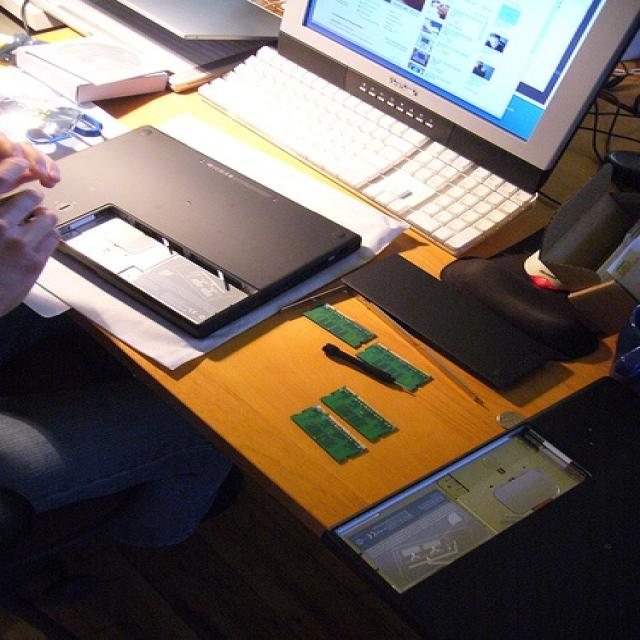tvmonitor: (284, 0, 638, 163)
